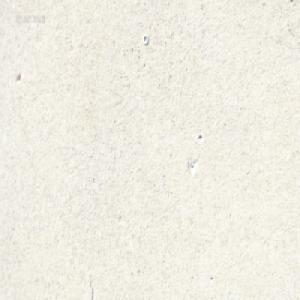Washer: (142, 35, 149, 46)
